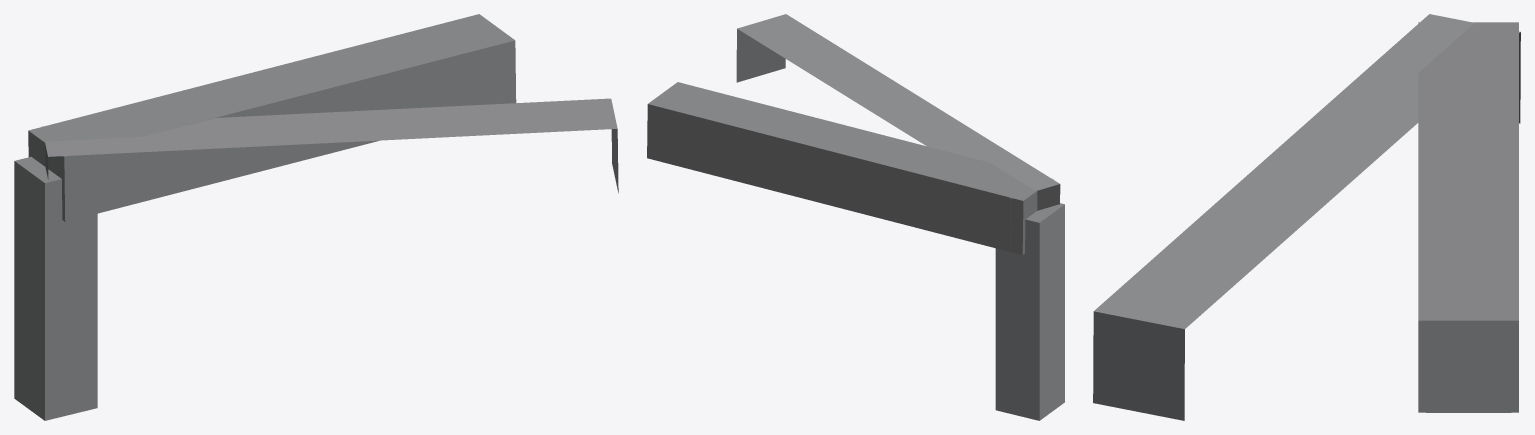
3 views of the same model, side by side, from view 1: azimuth 30°, elevation 25°; view 2: azimuth 150°, elevation 25°; view 3: azimuth 270°, elevation 25° (orthographic). The views are drawn at different scales.
Size of the model in its own units: 0.5004 by 0.267 by 0.276.
